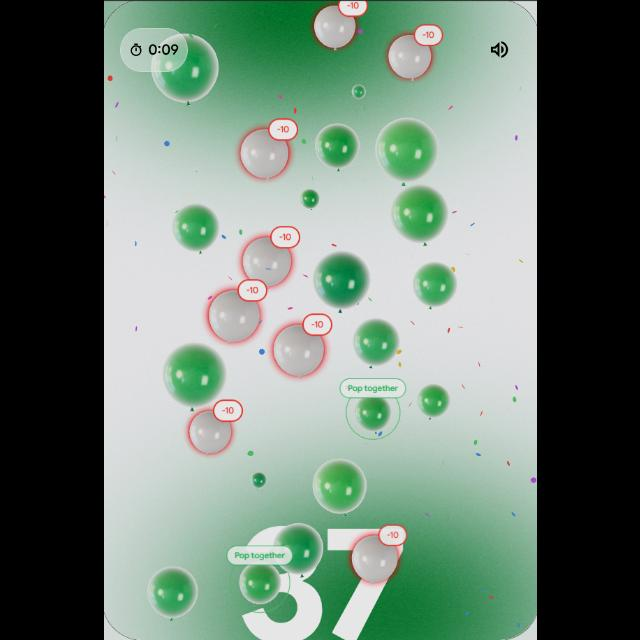hazard: (232, 116, 298, 186), (271, 308, 335, 376), (207, 278, 271, 344), (240, 222, 302, 288), (348, 524, 406, 584), (386, 22, 442, 80), (144, 566, 198, 626), (312, 1, 364, 52), (186, 409, 232, 457)
safe: (372, 120, 443, 188), (151, 34, 219, 104), (161, 341, 225, 405), (310, 250, 370, 310), (388, 184, 448, 242), (310, 458, 366, 516), (410, 260, 458, 308), (312, 122, 360, 170), (351, 318, 399, 366), (170, 204, 218, 252), (415, 384, 449, 418), (250, 472, 266, 488), (350, 84, 366, 98)
safe-pair: (334, 375, 412, 445), (223, 540, 295, 614)
